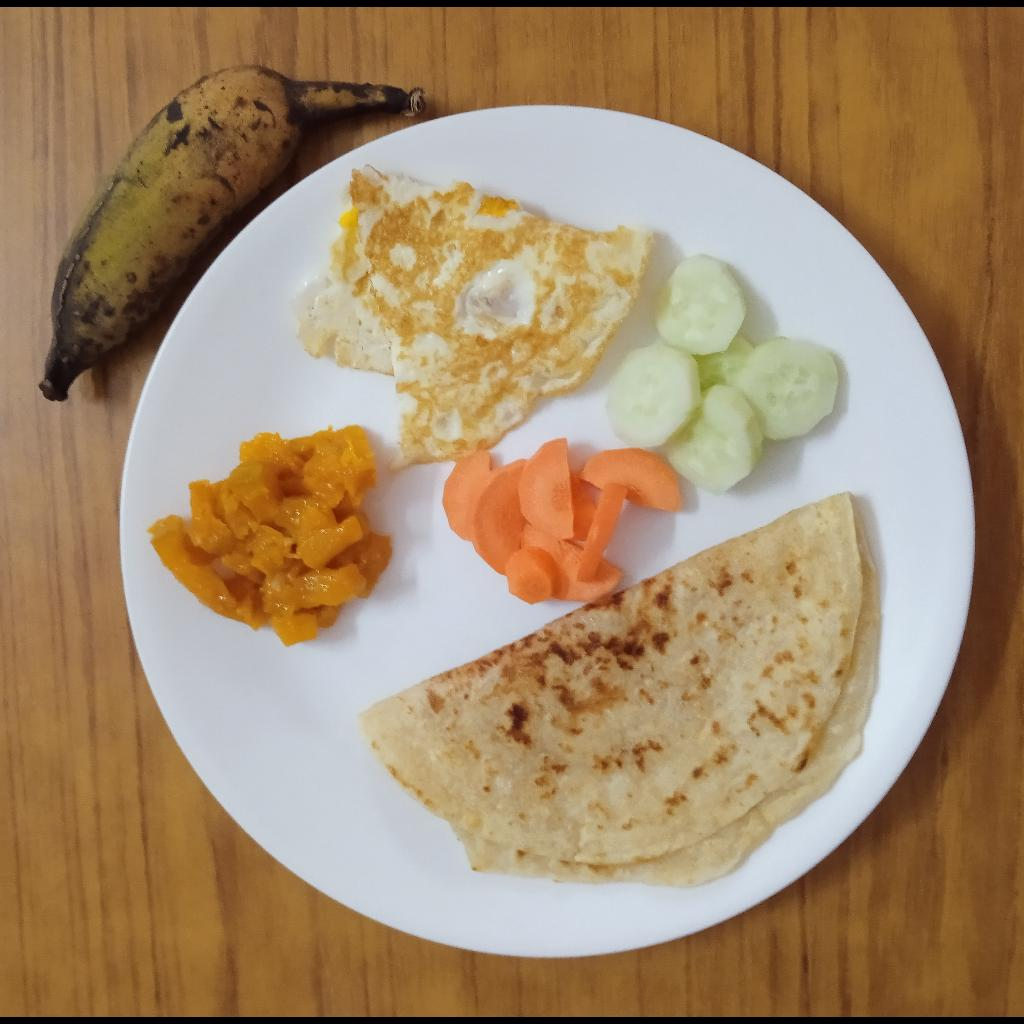banana: (35, 58, 429, 407)
carrot: (442, 435, 680, 610)
cucumber: (609, 254, 844, 492)
egg-poached: (297, 167, 664, 471)
kumra-vaji: (153, 424, 388, 643)
ruti: (358, 498, 879, 893)
